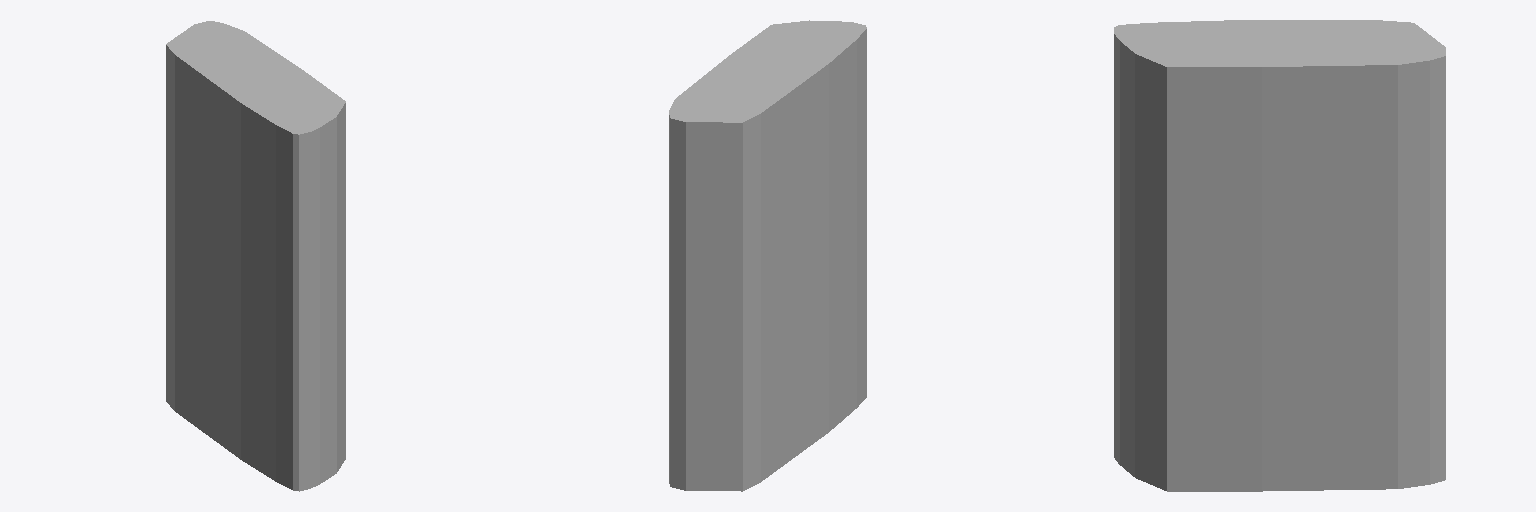
URDF robot description (root):
<robot name="root">
  <link name="link_dc0c4db824981b8cf29c5890b07f3a65_convex_piece_0">
    <inertial>
      <origin rpy="0 0 0" xyz="0 0 0"/>
      <mass value="-3.38E-05"/>
      <inertia ixx="-7.90E-09" ixy="-8.52E-11" ixz="-8.41E-11" iyy="-3.66E-09" iyz="-1.38E-10" izz="-5.39E-09"/>
    </inertial>
    <visual>
      <origin rpy="0 0 0" xyz="0 0 0"/>
      <geometry>
        <mesh filename="dc0c4db824981b8cf29c5890b07f3a65_convex_piece_0.obj" scale="1.0000E+00"/>
      </geometry>
      <material name="">
        <color rgba="7.50E-01 7.50E-01 7.50E-01 1"/>
      </material>
    </visual>
    <collision>
      <origin rpy="0 0 0" xyz="0 0 0"/>
      <geometry>
        <mesh filename="dc0c4db824981b8cf29c5890b07f3a65_convex_piece_0.obj" scale="1.0000E+00"/>
      </geometry>
    </collision>
  </link>
</robot>

--- Facts derived from the render (not from the file) ---
3 views of the same robot in one strip: view 1: azimuth 30°, elevation 25°; view 2: azimuth 150°, elevation 25°; view 3: azimuth 270°, elevation 25° (orthographic).
Robot: root — 1 links, 0 joints (none); root link link_dc0c4db824981b8cf29c5890b07f3a65_convex_piece_0; default pose: all joints at 0.
Visible links, largest first — view 1: link_dc0c4db824981b8cf29c5890b07f3a65_convex_piece_0; view 2: link_dc0c4db824981b8cf29c5890b07f3a65_convex_piece_0; view 3: link_dc0c4db824981b8cf29c5890b07f3a65_convex_piece_0.
Boxes of the visible links, x1,y1,x2,y2 form: link_dc0c4db824981b8cf29c5890b07f3a65_convex_piece_0: (166,21,345,491); link_dc0c4db824981b8cf29c5890b07f3a65_convex_piece_0: (669,20,866,491); link_dc0c4db824981b8cf29c5890b07f3a65_convex_piece_0: (1114,20,1445,491).
Bounding box of the posed robot: 0.0151 × 0.0454 × 0.0641 m (x, y, z).
1 mesh visuals loaded from 1 distinct referenced files (1 OBJ).
